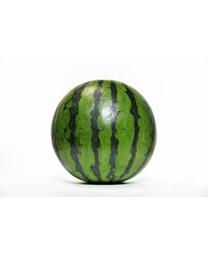watermelon: (50, 78, 157, 185)
